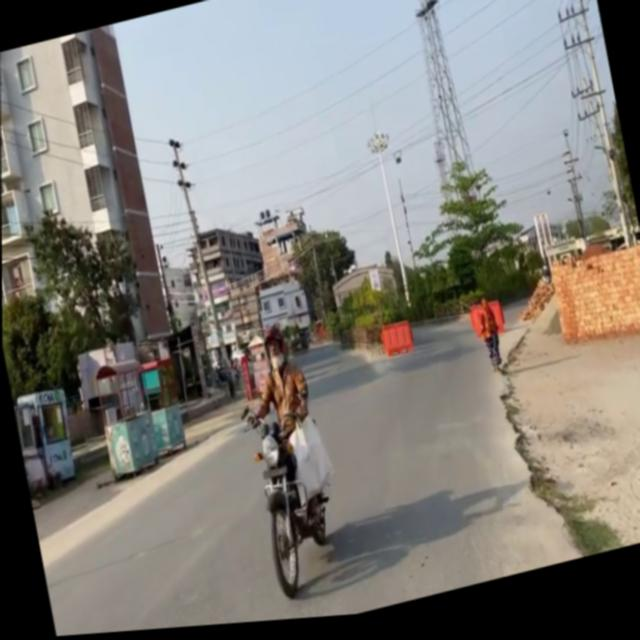Construction-barrier: (480, 292, 622, 580), (489, 298, 566, 379)
Downstairs: (81, 342, 200, 498)
Fallen-tree: (235, 390, 351, 608)
Garbage: (537, 241, 640, 367), (378, 324, 413, 365)
Garbage-bin: (226, 322, 327, 521), (471, 301, 505, 381)
